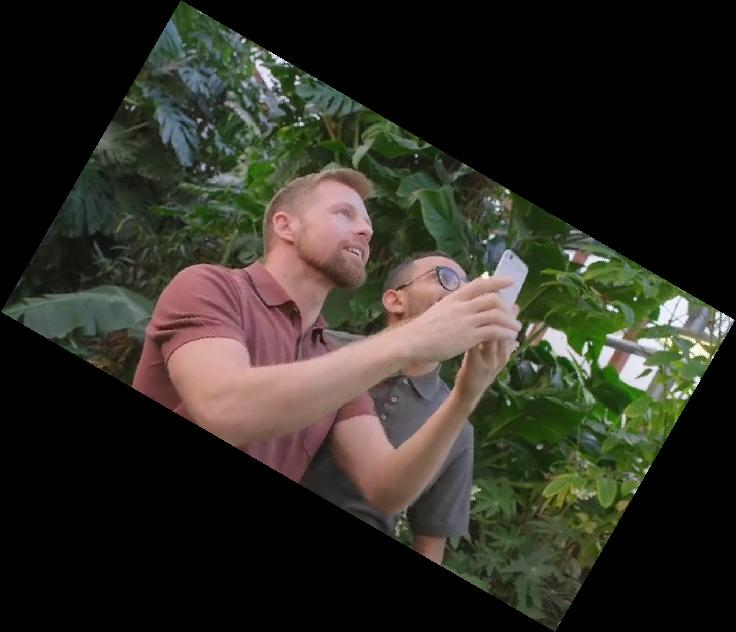phone: (481, 246, 531, 310)
